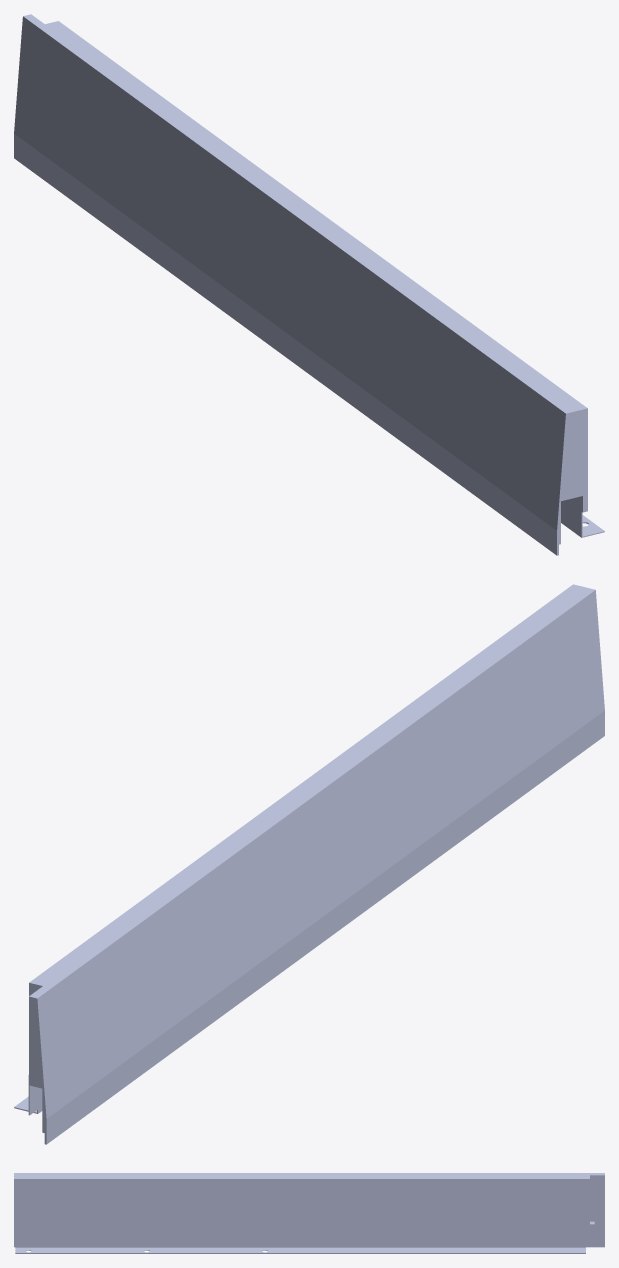
The model's file is mv-kava-M650-p.glb.
3 views of the same model, one above another, from view 1: azimuth 30°, elevation 25°; view 2: azimuth 150°, elevation 25°; view 3: azimuth 270°, elevation 25° (orthographic). The views are drawn at different scales.
Visible parts, largest first — view 1: 43579561; view 2: 43579561; view 3: 43579561.
Part boxes in pixels (<box>): 43579561: <box>14,14,604,555</box>; 43579561: <box>14,584,604,1144</box>; 43579561: <box>14,1173,604,1253</box>.
Size of the model in its own units: 0.0335 by 0.091 by 0.6402.
